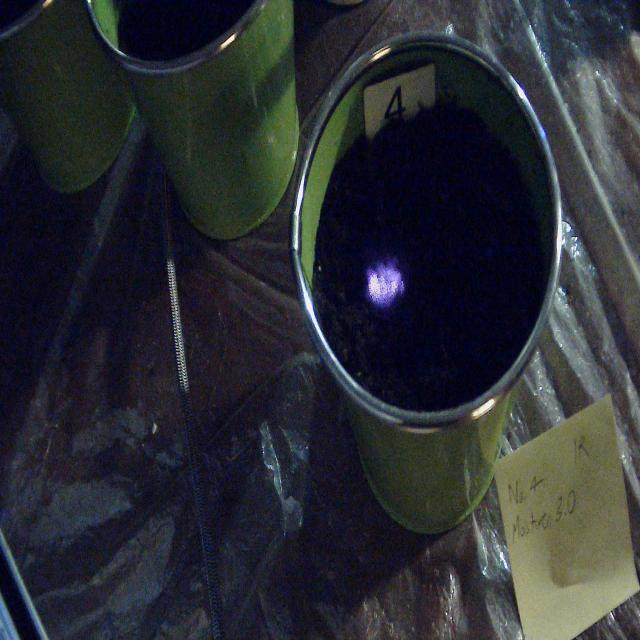soil-moisture-3.0: (366, 252, 403, 310)
